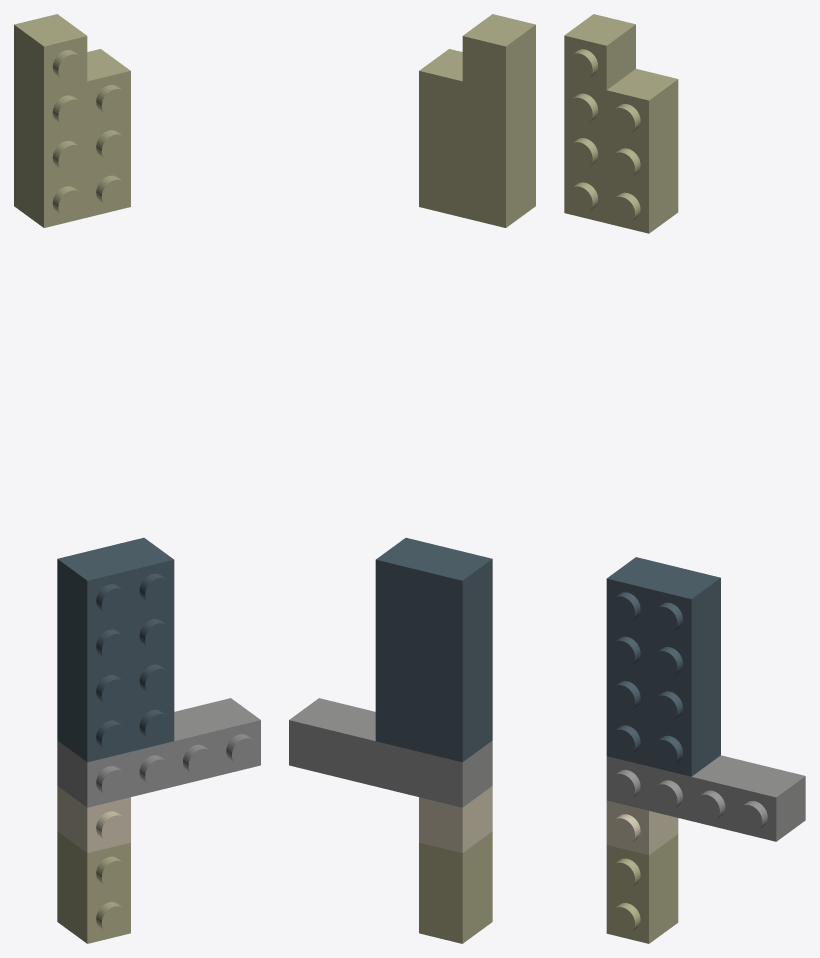
File: current.glb
The picture shows the model from 3 angles, left to right: view 1: azimuth 30°, elevation 25°; view 2: azimuth 150°, elevation 25°; view 3: azimuth 330°, elevation 25°; orthographic projection. The views are drawn at different scales.
Parts seen in each view (by area): view 1: world; view 2: world; view 3: world.
Boxes of the visible parts, x1,y1,x2,y2 form: world: (14, 14, 260, 943); world: (289, 14, 535, 943); world: (564, 14, 805, 943).
Size of the model in its own units: 40 by 160 by 11.4.
